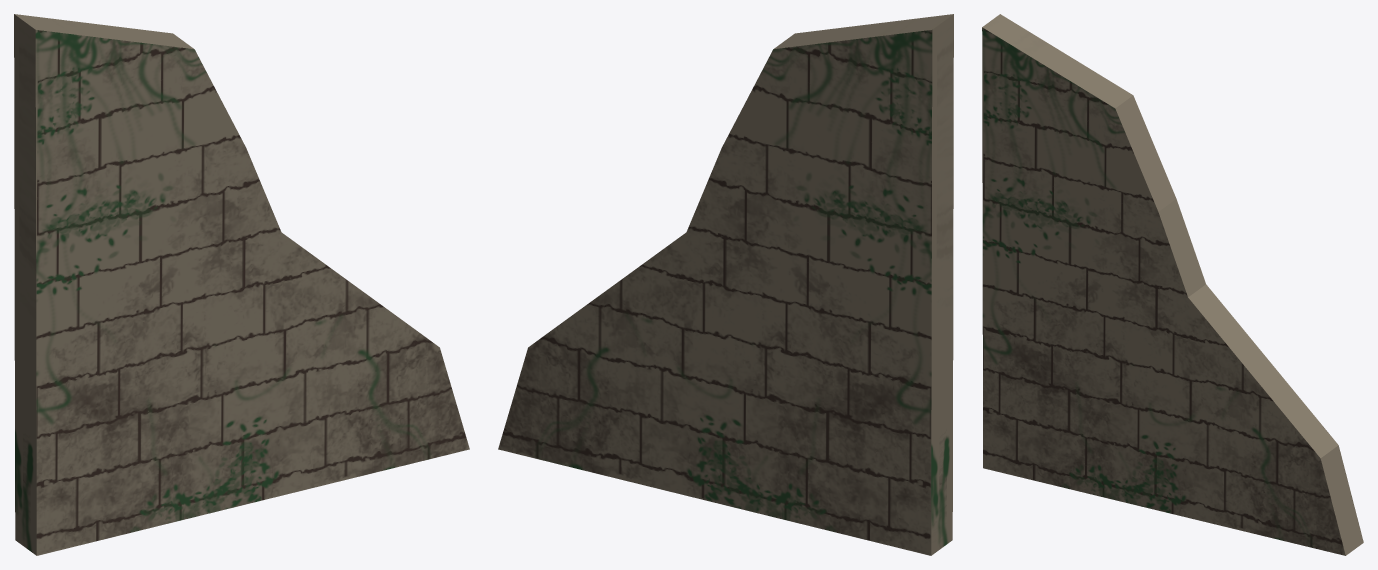
File: mur IV_2.FBX
The picture shows the model from 3 angles, left to right: view 1: azimuth 30°, elevation 25°; view 2: azimuth 150°, elevation 25°; view 3: azimuth 330°, elevation 25°; orthographic projection. The views are drawn at different scales.
Visible parts, largest first — view 1: IV 2; view 2: IV 2; view 3: IV 2.
Boxes of the visible parts, <box> form: IV 2: <box>14,14,469,555</box>; IV 2: <box>498,14,953,555</box>; IV 2: <box>982,14,1363,555</box>.
Size of the model in its own units: 19.63 by 22.74 by 1.69.
